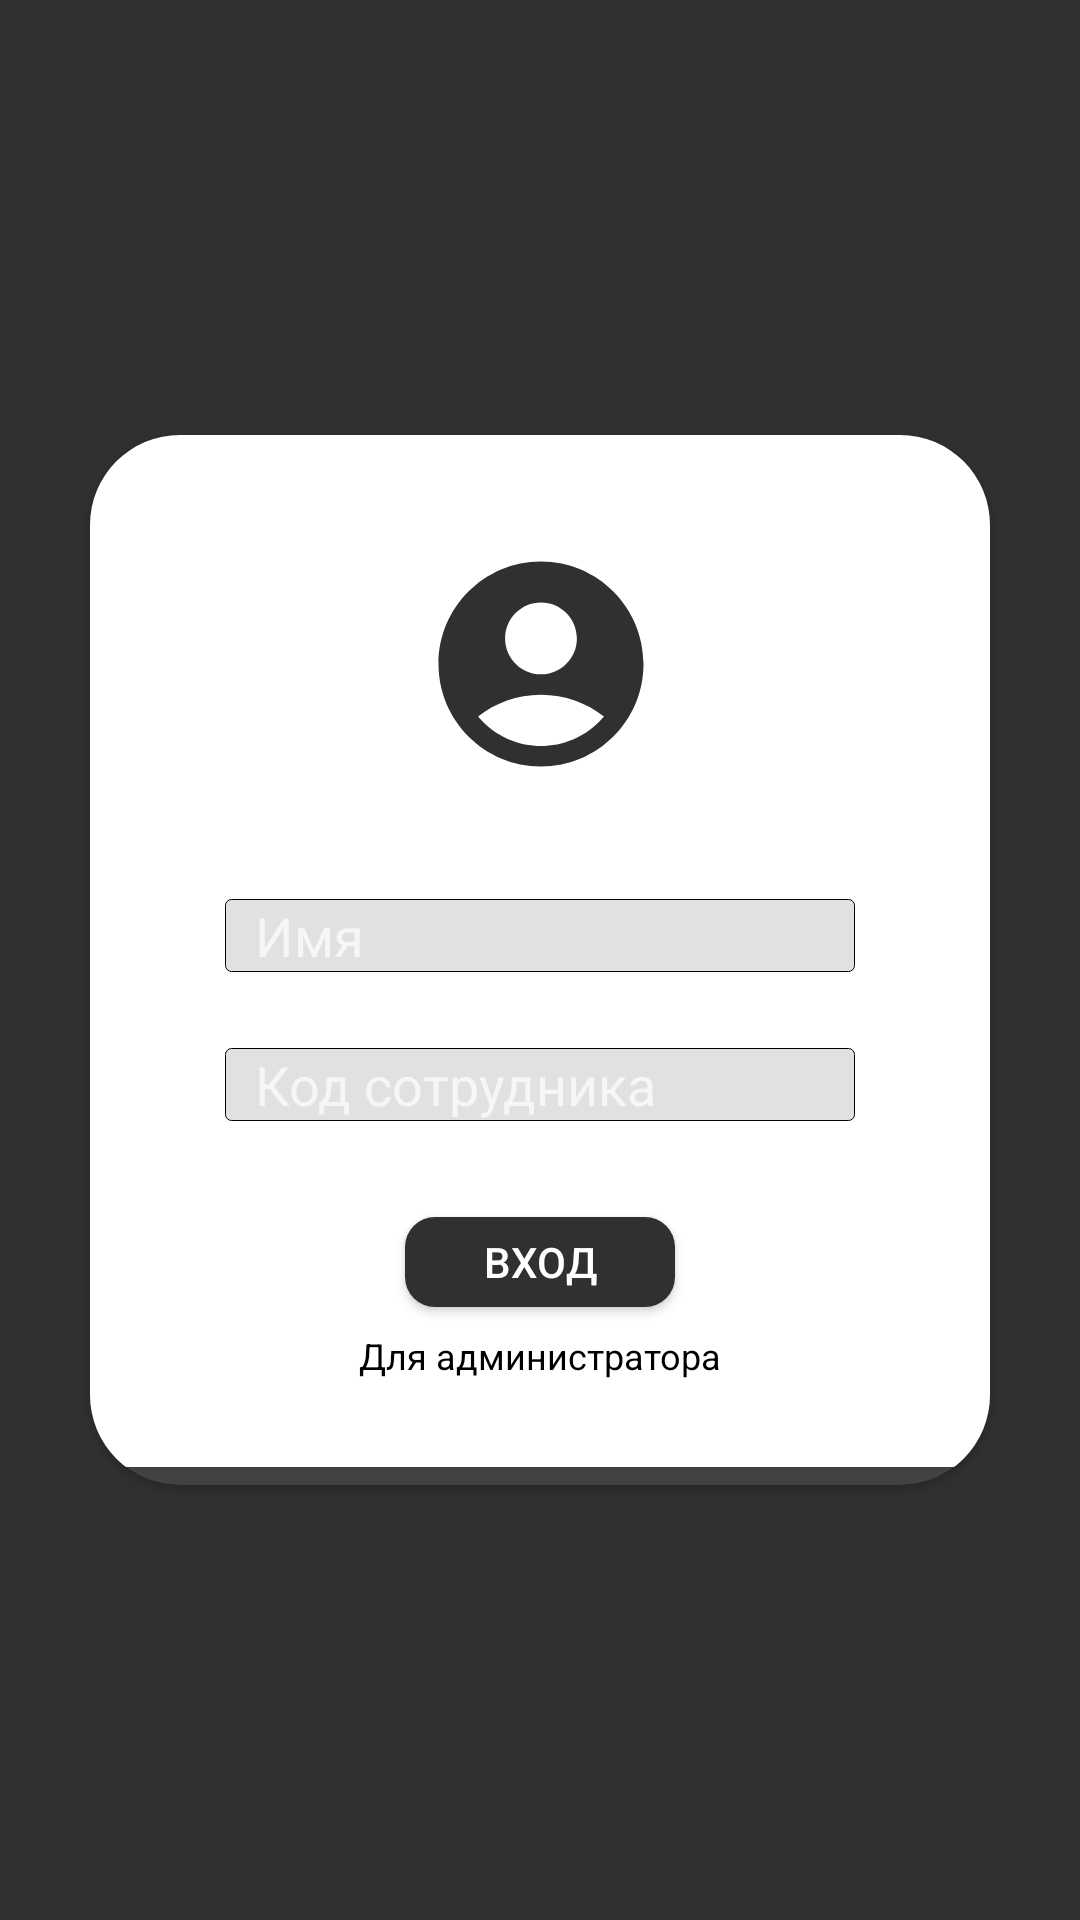

Where to tap for icons on this 1080 x 1920 app screen, as [x,y]:
account: [541,664]
